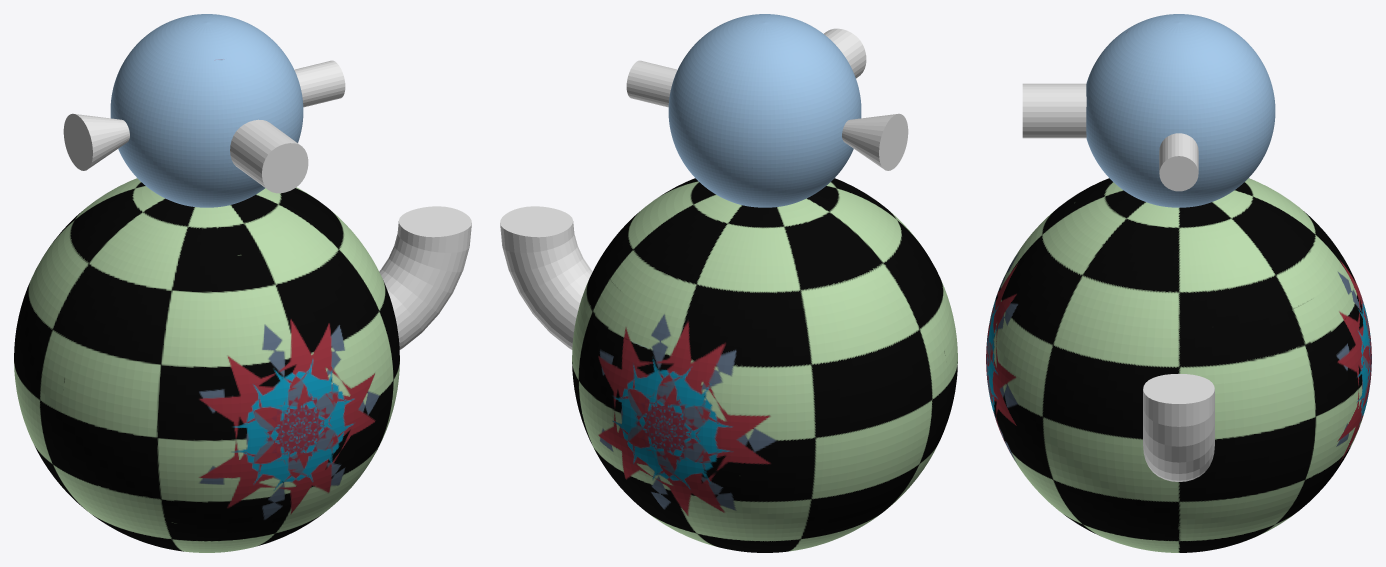
The model's file is BOD0_BMC1_BCC14_BPT4_FRC15_HEA0_HMC11_HCC15_HPT0_ELT3_ERT1_ELL0_ERL0_AP2_AAL1_AAR0_BEK1.fbx.
The picture shows the model from 3 angles, left to right: view 1: azimuth 30°, elevation 25°; view 2: azimuth 150°, elevation 25°; view 3: azimuth 270°, elevation 25°; orthographic projection.
Parts seen in each view (by area): view 1: Body, Arm, Beak, Ear, Ear.001; view 2: Body, Arm, Ear, Ear.001, Beak; view 3: Body, Arm, Beak, Ear.001.
Boxes of the visible parts, x1,y1,x2,y2 form: Body: (14, 14, 399, 552); Arm: (379, 206, 471, 349); Beak: (230, 119, 308, 193); Ear: (63, 113, 129, 170); Ear.001: (294, 60, 345, 107); Body: (572, 14, 957, 552); Arm: (500, 206, 592, 349); Ear: (842, 113, 908, 170); Ear.001: (626, 60, 677, 107); Beak: (824, 28, 866, 78); Body: (986, 14, 1371, 552); Arm: (1143, 373, 1214, 481); Beak: (1022, 83, 1086, 138); Ear.001: (1159, 133, 1198, 191).
Bounding box in the file's own units: 62.99 × 72.41 × 49.36.
Materials: 1 (1 with a texture image).
